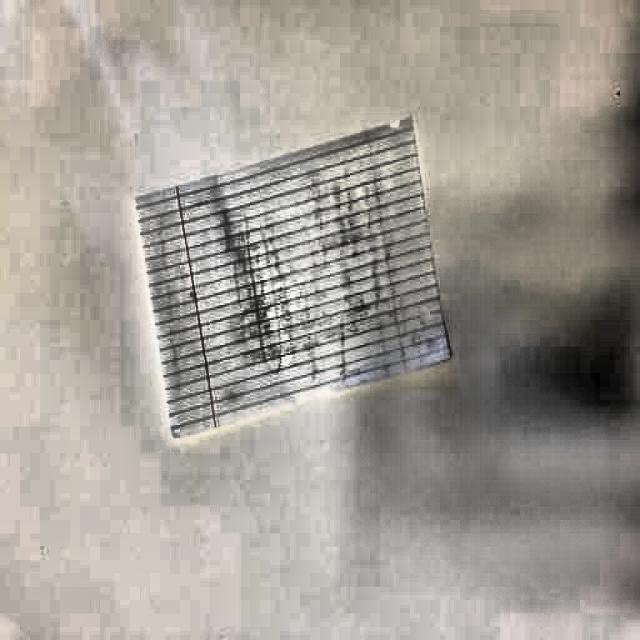paper: (129, 120, 462, 406)
